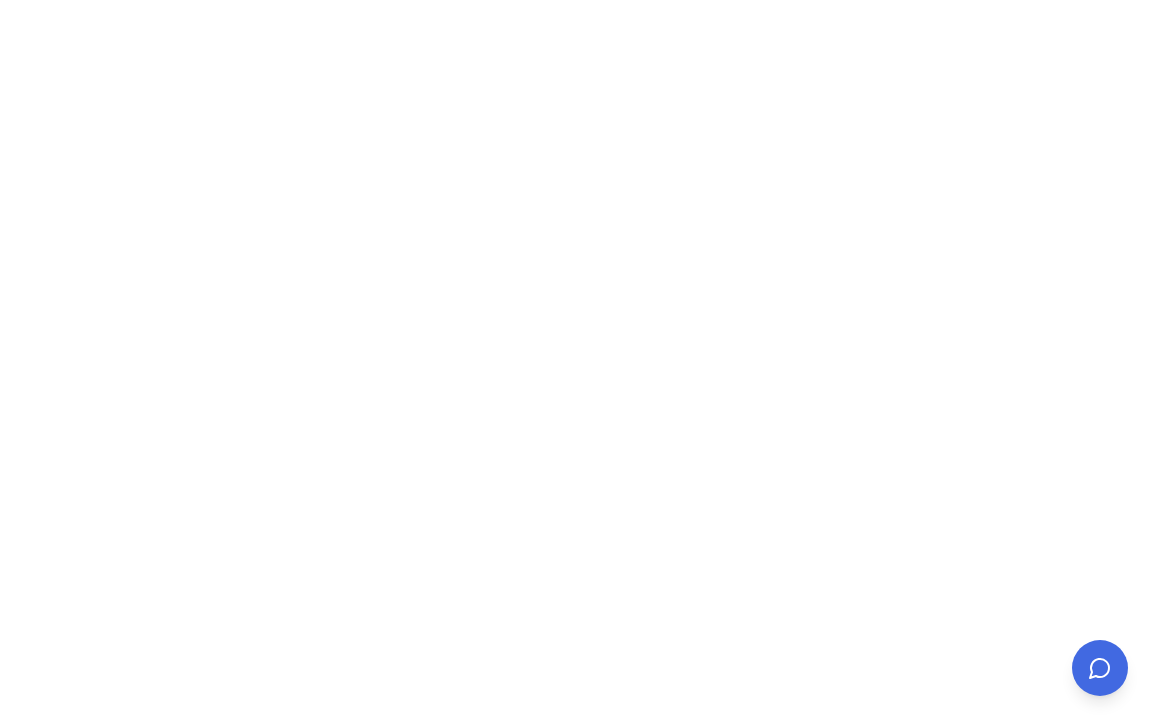
Test: E2E: Chatbot Component › back button returns from contact form to chat
Click the button named "Open chat". click: (1100, 668)
box: [1072,640,1128,696]
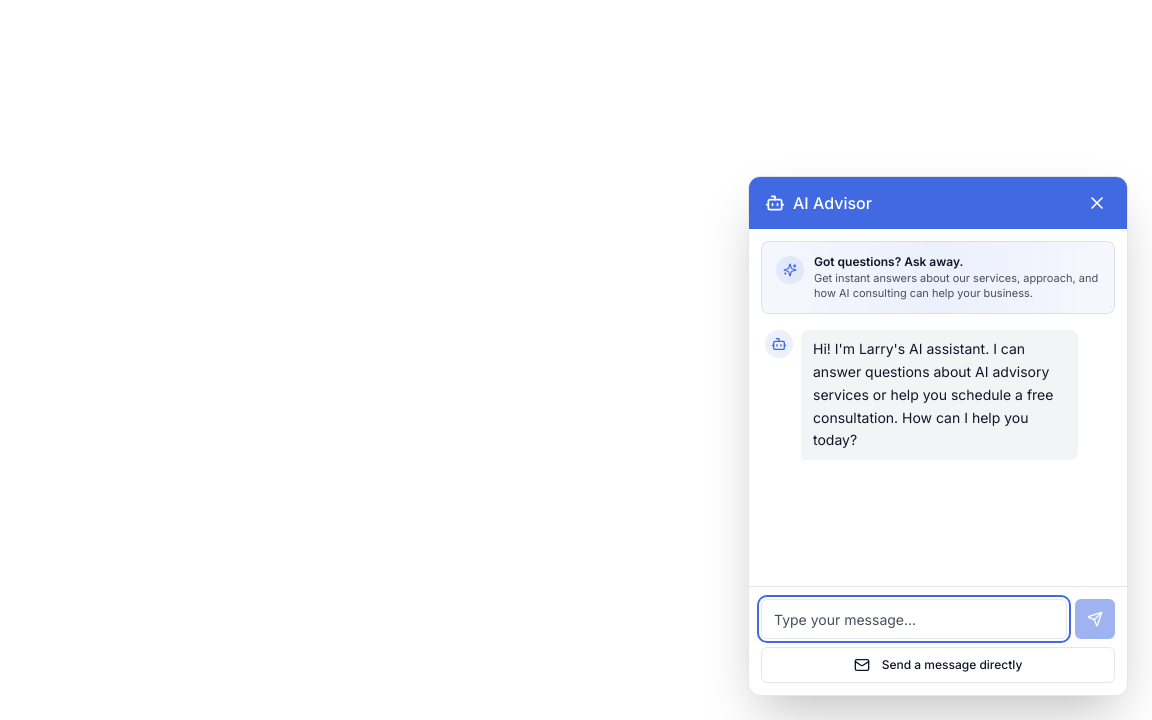
Click the button "Send a message directly". click: (938, 665)
box: [761,647,1115,683]
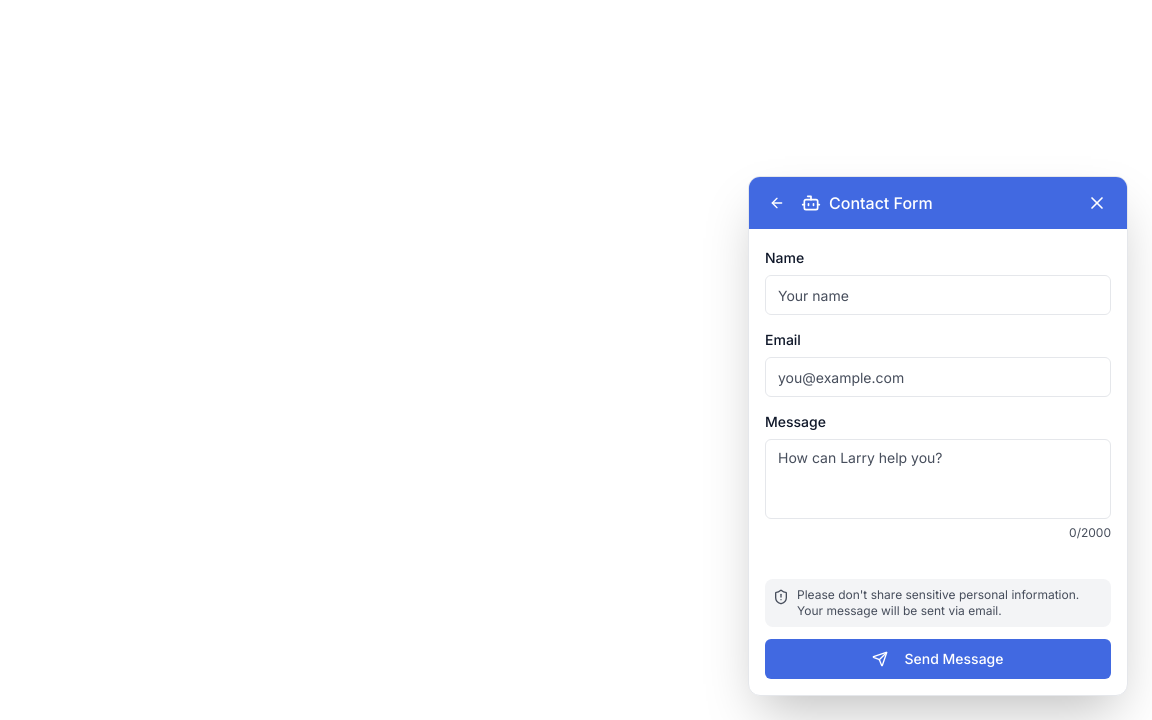
Check: the text "Contact Form" is shown, box [829,191,933,215]
Click the button named "Back to chat". click: (777, 203)
box: [765,191,789,215]
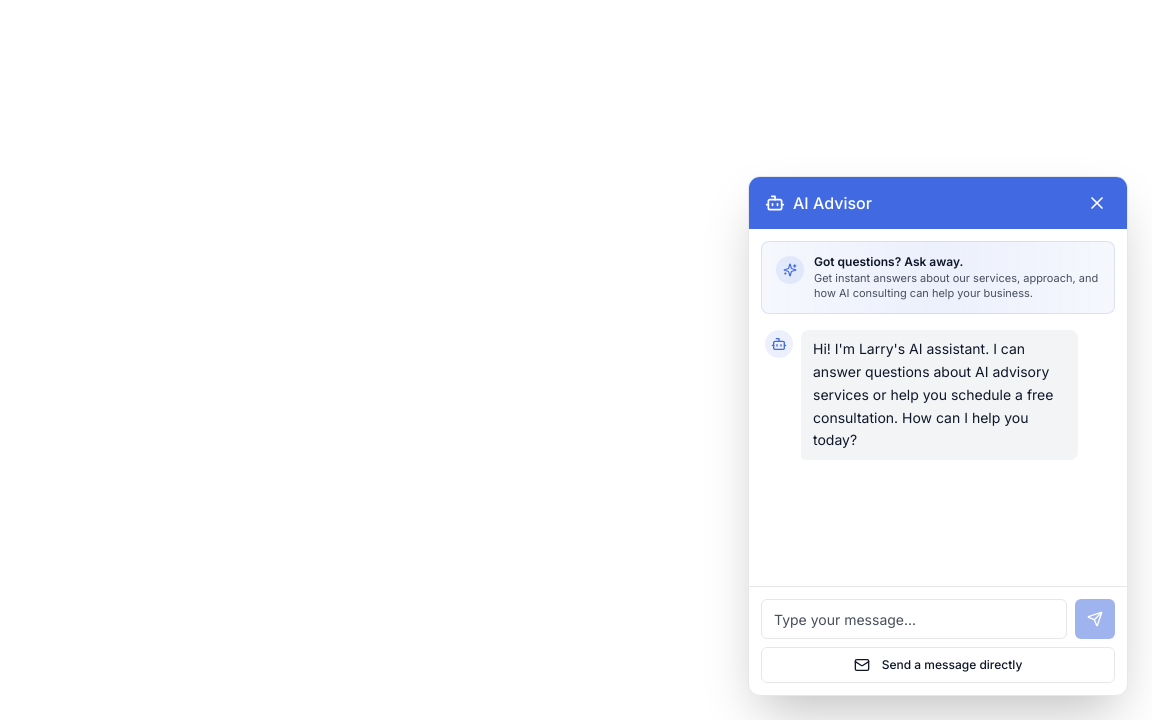
Check: the text "AI Advisor" is shown, box [793,191,872,215]
